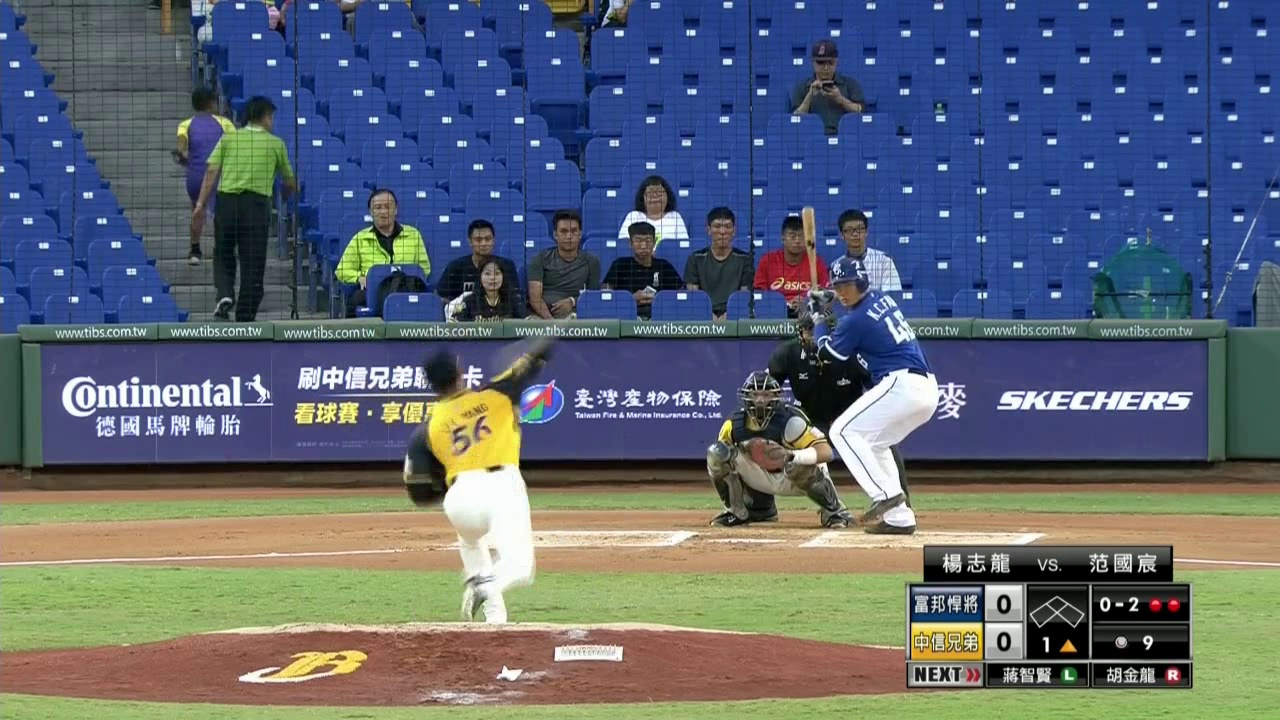base: (1028, 594, 1087, 629)
bat: (797, 198, 824, 292)
out: (1147, 597, 1181, 614)
score1: (986, 584, 1020, 620)
score2: (985, 623, 1022, 658)
session: (1036, 634, 1079, 656)
strikeball: (1098, 593, 1140, 613)
total: (1111, 627, 1159, 654)
